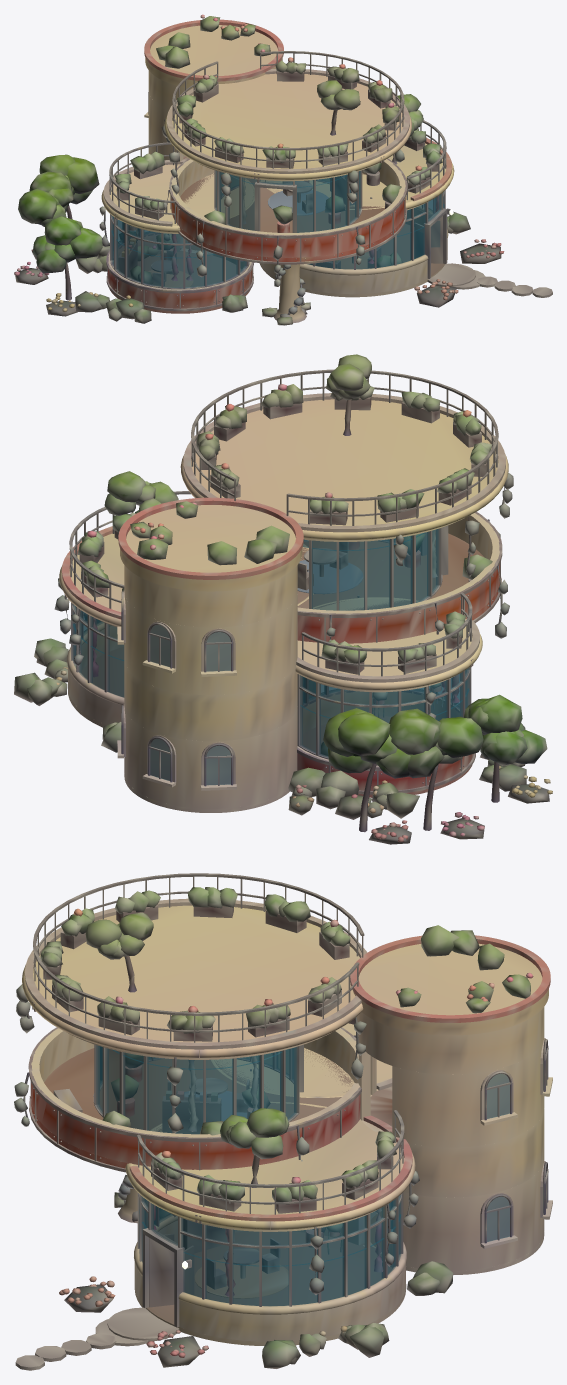
The model's file is ev_cam_genis.glb.
3 views of the same model, one above another, from view 1: azimuth 30°, elevation 25°; view 2: azimuth 150°, elevation 25°; view 3: azimuth 270°, elevation 25° (orthographic). The views are drawn at different scales.
Parts seen in each view (by area): view 1: ev_cam_genis_LOD0; view 2: ev_cam_genis_LOD0; view 3: ev_cam_genis_LOD0.
Boxes of the visible parts, <box> form: ev_cam_genis_LOD0: <box>14,14,552,325</box>; ev_cam_genis_LOD0: <box>14,354,552,844</box>; ev_cam_genis_LOD0: <box>14,873,552,1370</box>.
Size of what is drawn, in the model's own units: 20.82 by 11.35 by 16.67.
